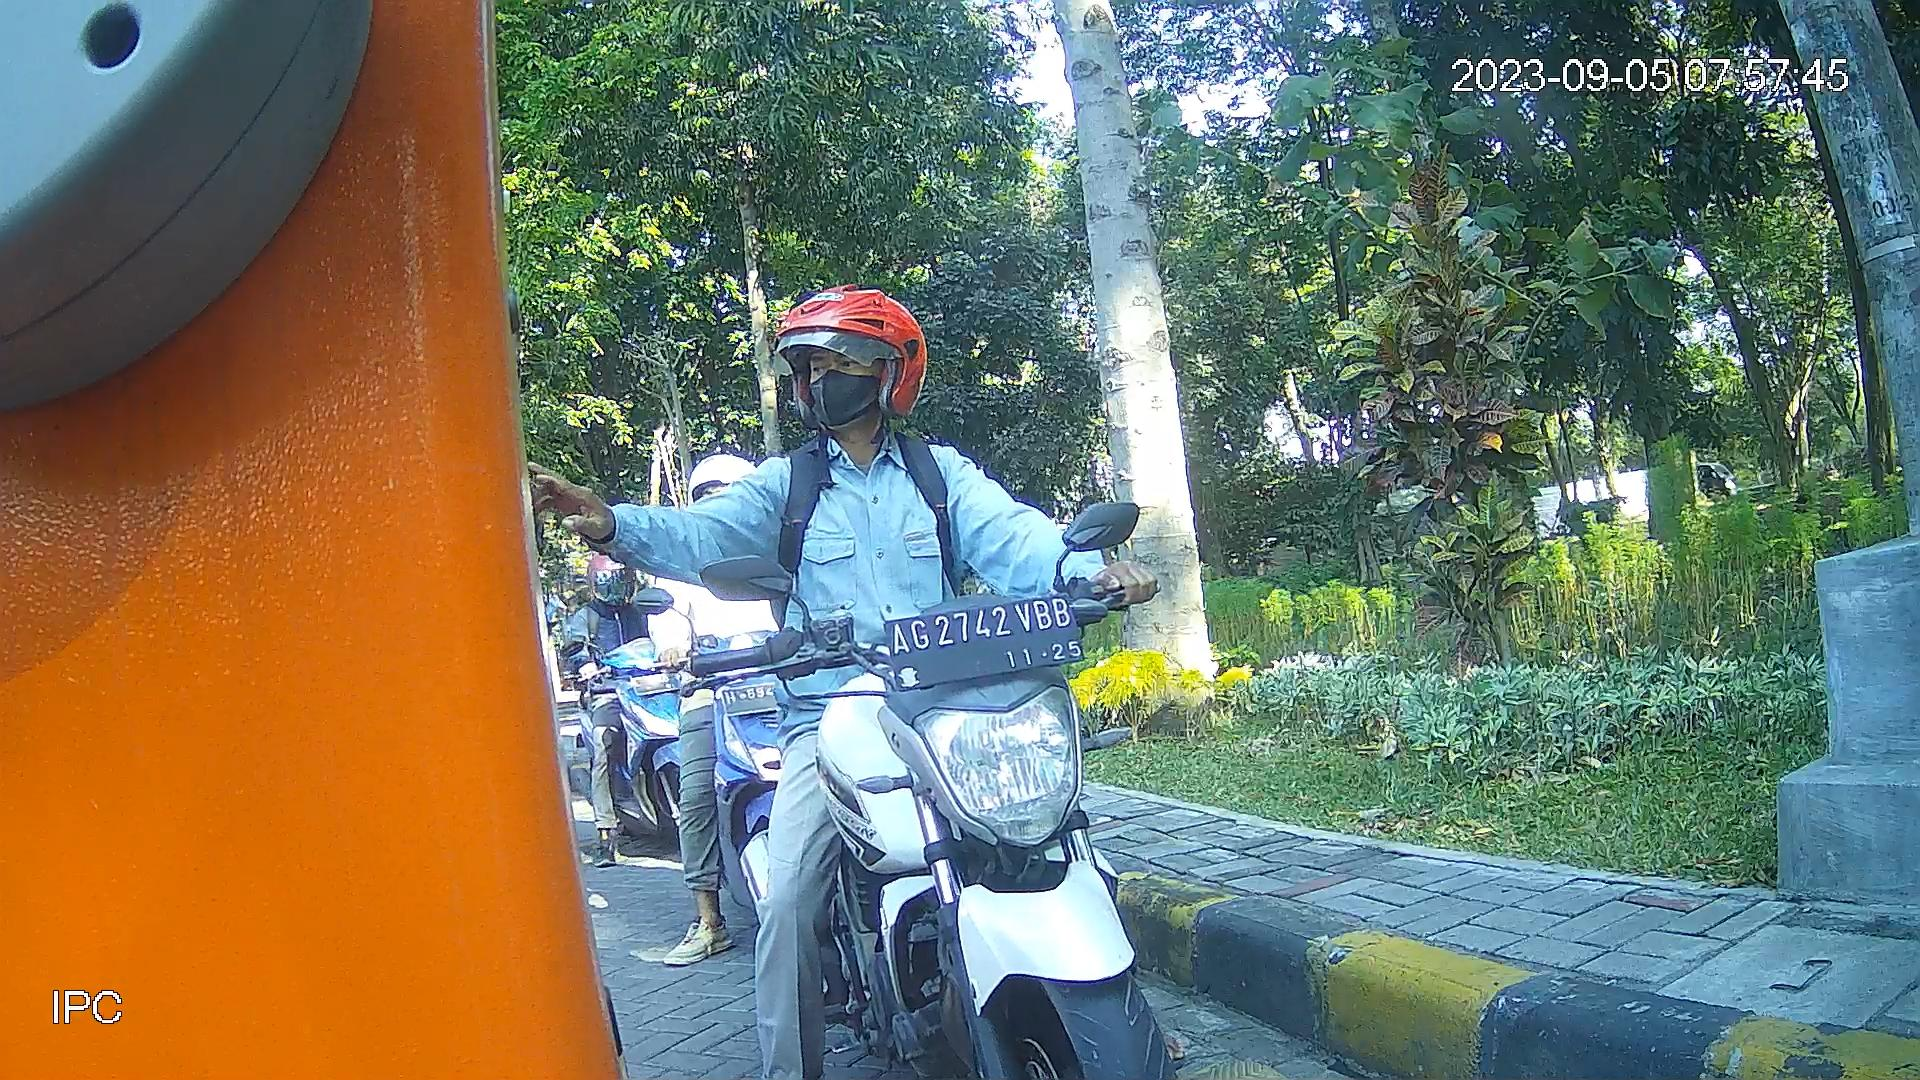plat: (881, 591, 1089, 694)
